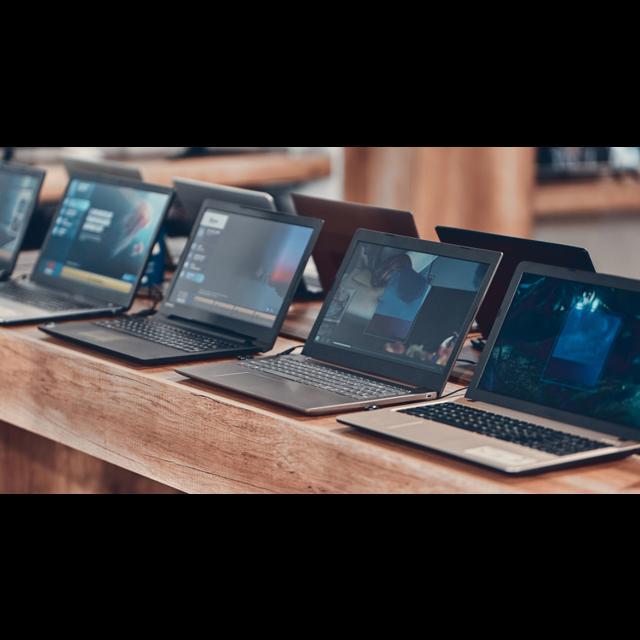Laptop: (1, 171, 628, 471)
